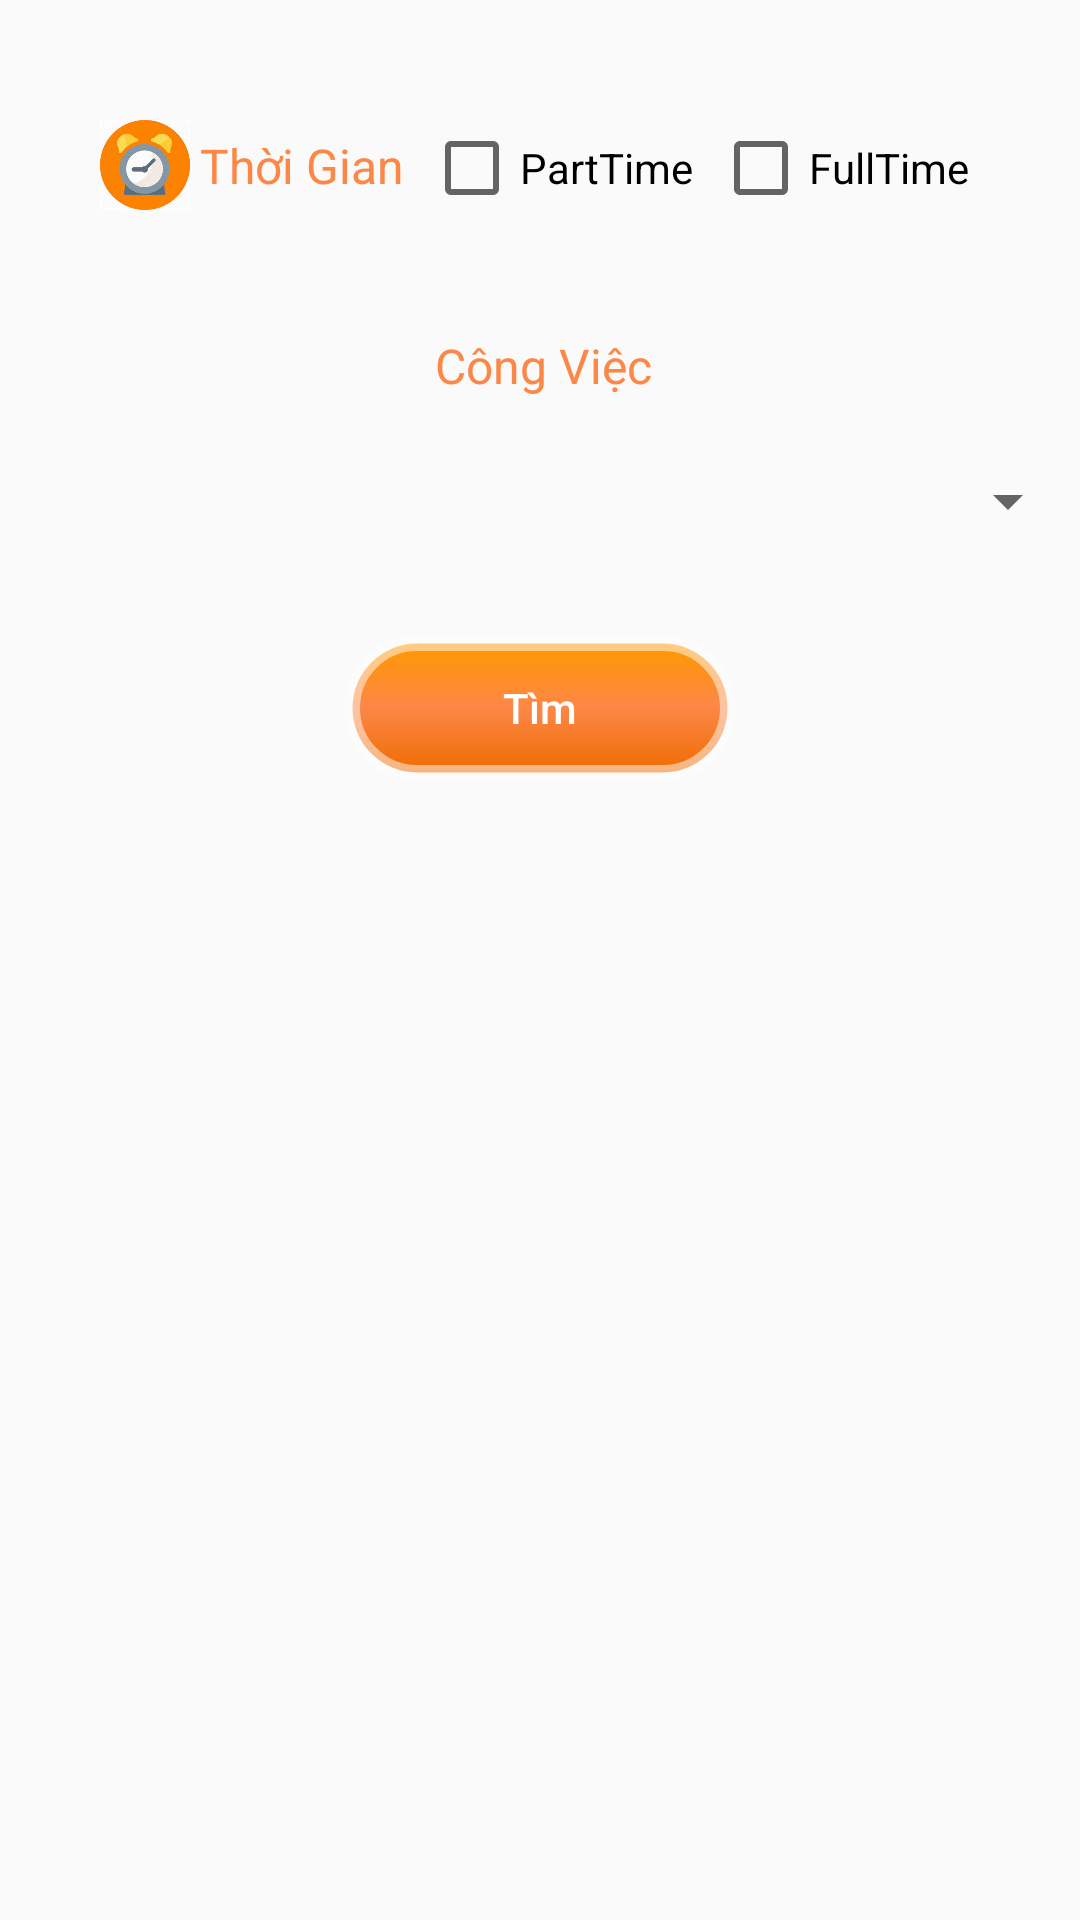

Where icons sit on this 1080 x 1920 app screen, as (x1, y1, x2, y2):
time: (100, 120, 190, 210)
